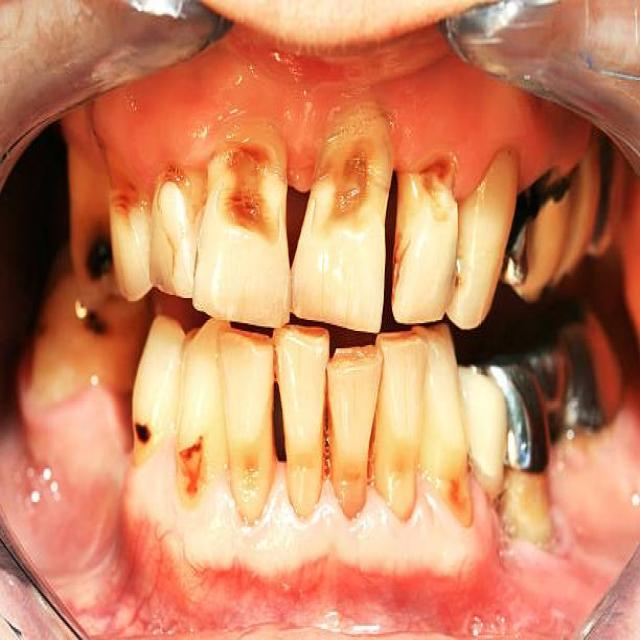caries: (307, 98, 396, 255), (210, 121, 296, 263), (224, 407, 279, 523), (372, 417, 426, 528), (402, 138, 460, 237), (155, 154, 209, 256), (282, 421, 332, 522), (326, 420, 372, 520), (169, 419, 219, 502), (435, 447, 480, 530), (73, 295, 124, 361), (100, 156, 143, 232), (82, 217, 126, 290), (123, 405, 163, 470)
